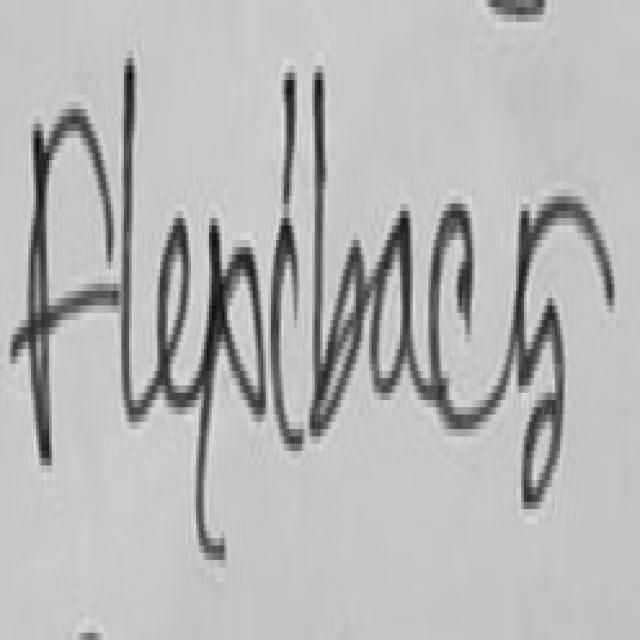5: (504, 147, 620, 528)
F: (12, 51, 118, 484)
a: (366, 182, 426, 448)
b: (308, 32, 368, 447)
c: (428, 158, 501, 461)
e: (143, 170, 193, 442)
i: (266, 49, 306, 458)
l: (115, 47, 154, 440)
x: (198, 200, 266, 508)
